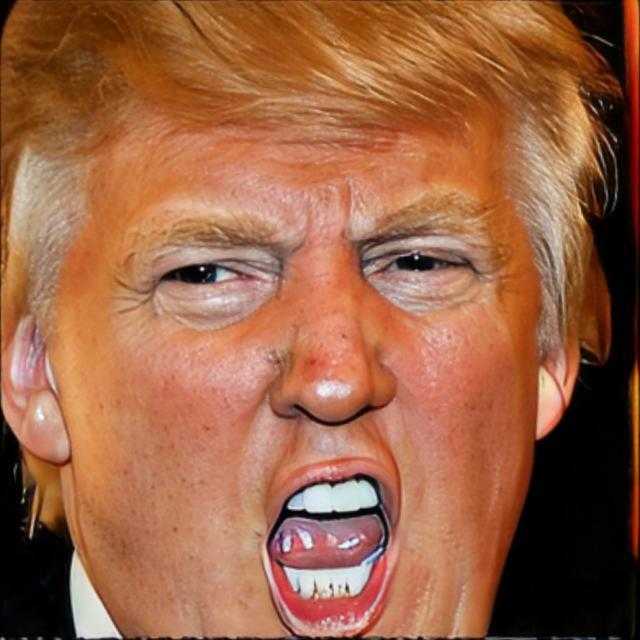anger: (63, 78, 524, 640)
